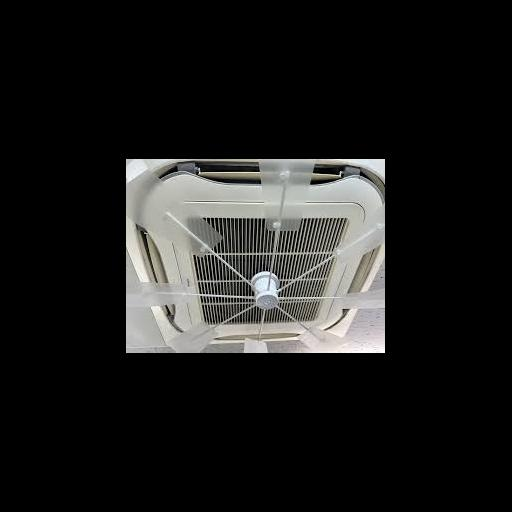4-way-ac: (128, 159, 384, 351)
